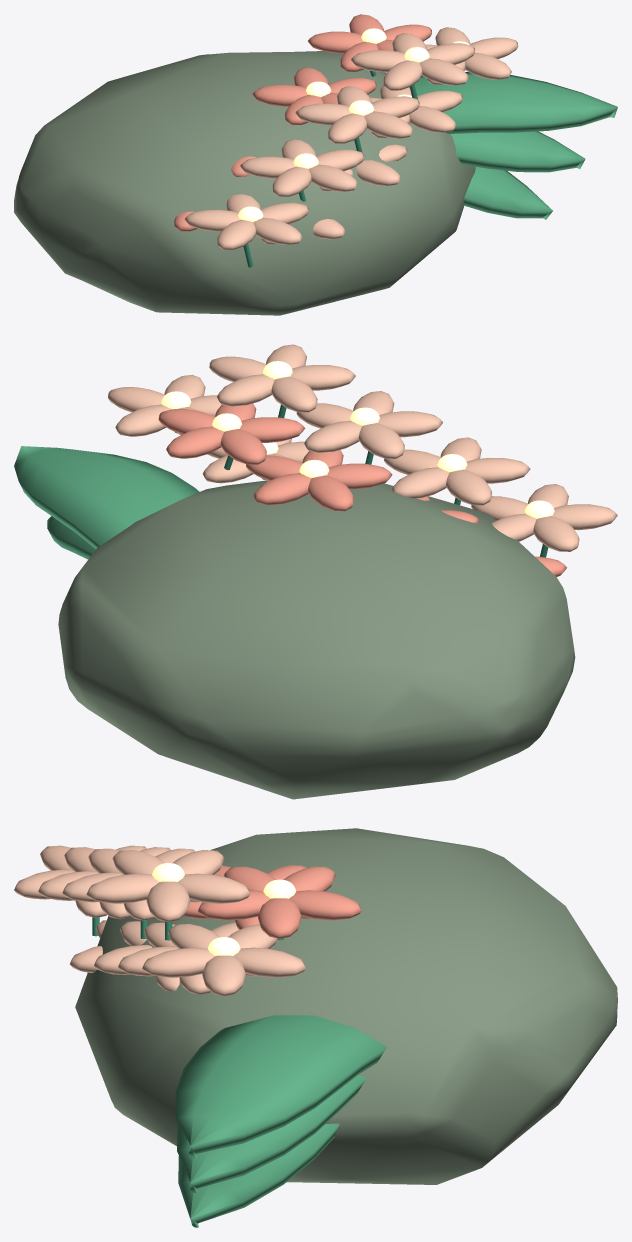
The model's file is rainforest_decor_c.glb.
3 renders of one model, top to bottom at view 1: azimuth 30°, elevation 25°; view 2: azimuth 150°, elevation 25°; view 3: azimuth 270°, elevation 25°, orthographic. The views are drawn at different scales.
Visible parts, largest first — view 1: Batched V2 rainforest stone, Batched V2 rainforest pale petal, Batched V2 rainforest middle foliage, Batched V2 rainforest warm, Batched V2 rainforest glow; view 2: Batched V2 rainforest stone, Batched V2 rainforest pale petal, Batched V2 rainforest middle foliage, Batched V2 rainforest warm, Batched V2 rainforest glow; view 3: Batched V2 rainforest stone, Batched V2 rainforest middle foliage, Batched V2 rainforest pale petal, Batched V2 rainforest warm, Batched V2 rainforest glow.
Part boxes in pixels (left/top/right/bottom): Batched V2 rainforest stone: left=14, top=51, right=475, bottom=315; Batched V2 rainforest pale petal: left=184, top=27, right=518, bottom=249; Batched V2 rainforest middle foliage: left=409, top=72, right=617, bottom=219; Batched V2 rainforest warm: left=174, top=14, right=431, bottom=231; Batched V2 rainforest glow: left=238, top=28, right=469, bottom=221; Batched V2 rainforest stone: left=58, top=480, right=575, bottom=799; Batched V2 rainforest pale petal: left=108, top=344, right=617, bottom=551; Batched V2 rainforest middle foliage: left=14, top=446, right=199, bottom=559; Batched V2 rainforest warm: left=158, top=403, right=566, bottom=576; Batched V2 rainforest glow: left=161, top=361, right=554, bottom=518; Batched V2 rainforest stone: left=75, top=828, right=617, bottom=1184; Batched V2 rainforest middle foliage: left=175, top=1015, right=387, bottom=1227; Batched V2 rainforest pale petal: left=14, top=845, right=305, bottom=996; Batched V2 rainforest warm: left=184, top=865, right=361, bottom=938; Batched V2 rainforest glow: left=152, top=863, right=296, bottom=956.
Size of the model in its own units: 1.58 by 0.7693 by 1.25.
